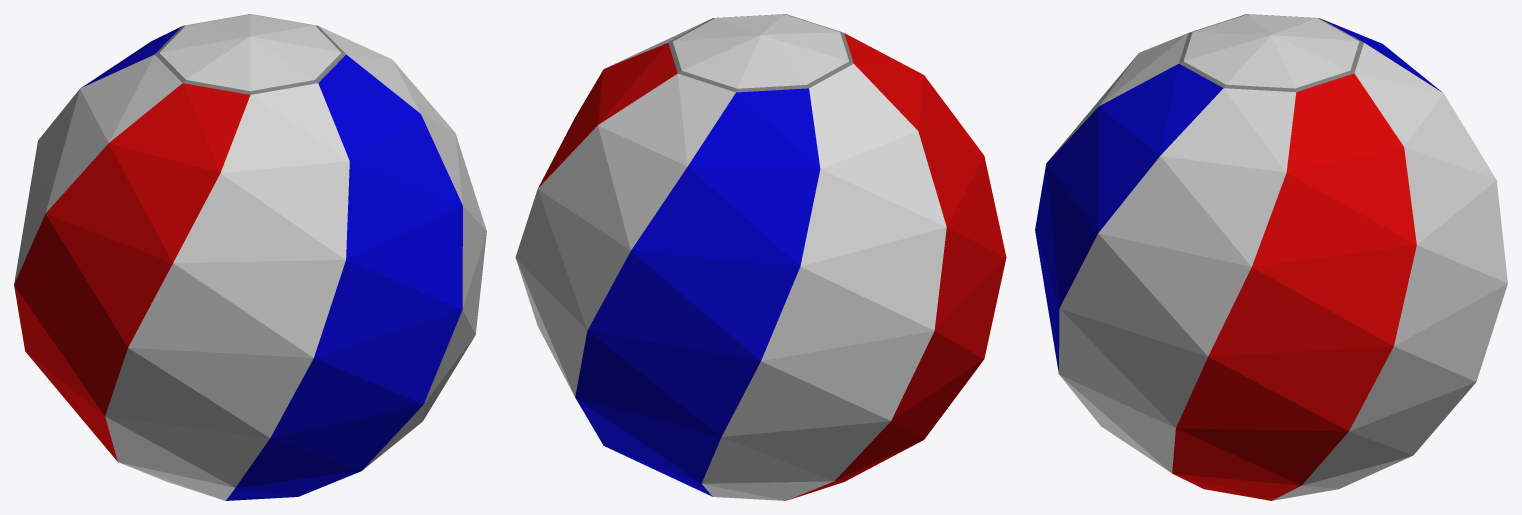
Rendered from ball1.fbx.
The picture shows the model from 3 angles, left to right: view 1: azimuth 30°, elevation 25°; view 2: azimuth 150°, elevation 25°; view 3: azimuth 270°, elevation 25°; orthographic projection.
Parts seen in each view (by area): view 1: Sphere; view 2: Sphere; view 3: Sphere.
Part boxes in pixels (<box>): Sphere: <box>14,14,486,500</box>; Sphere: <box>515,14,1006,500</box>; Sphere: <box>1035,14,1507,500</box>.
Size of the model in its own units: 193 by 200 by 193.
